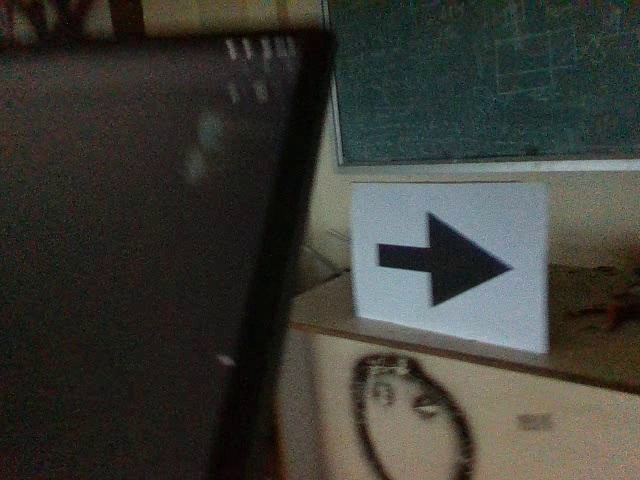Right: (373, 206, 516, 313)
